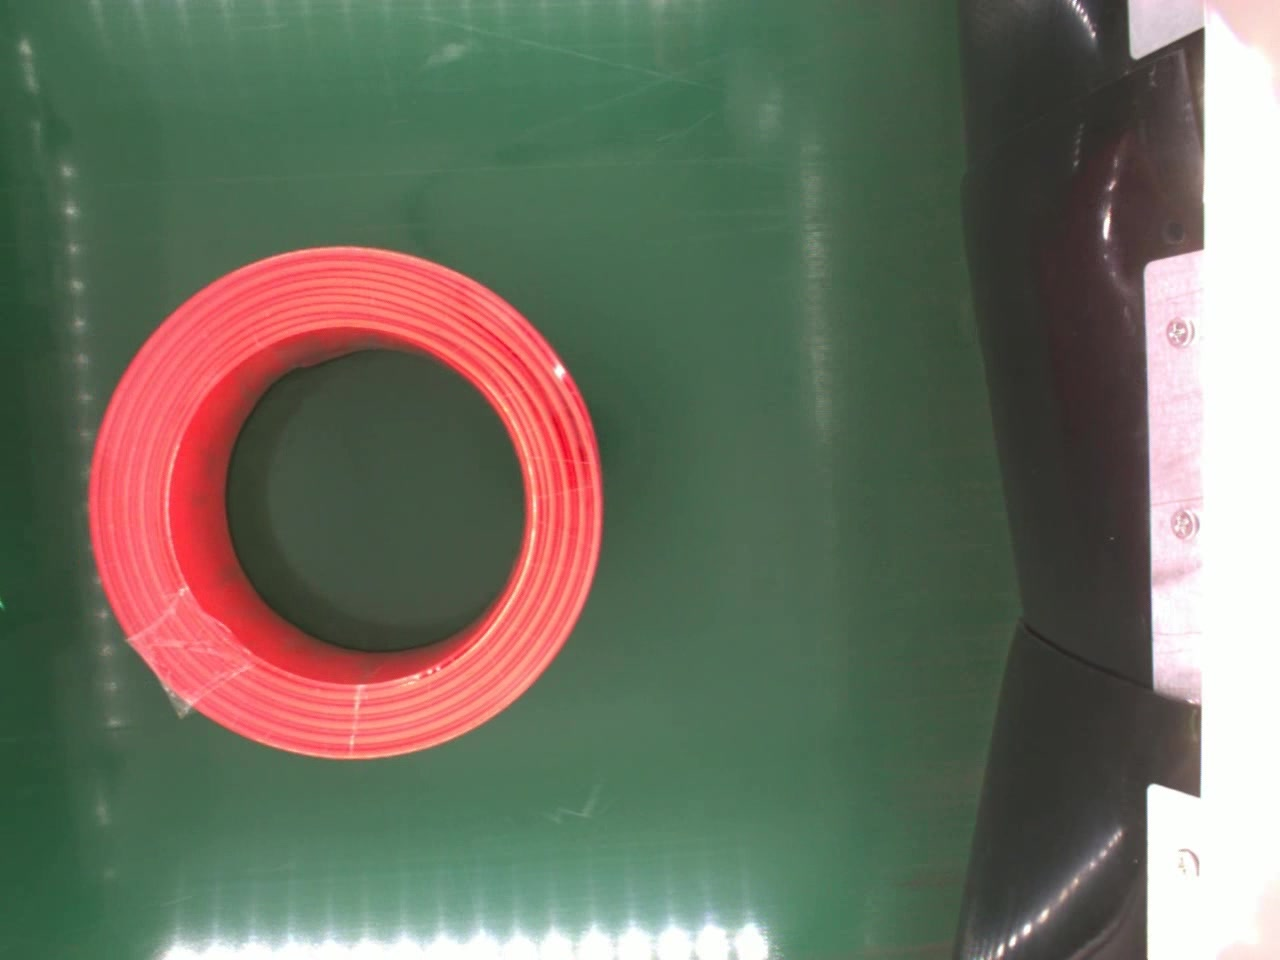red: (90, 245, 609, 767)
